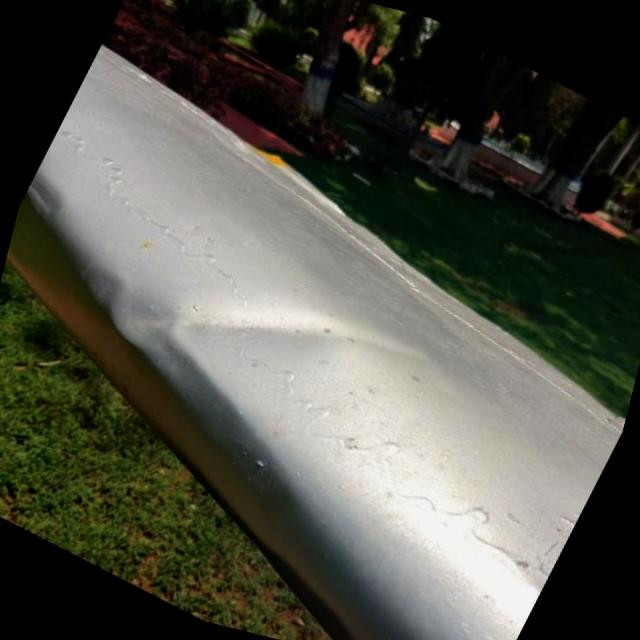dent: (56, 242, 418, 494), (25, 169, 66, 235)
